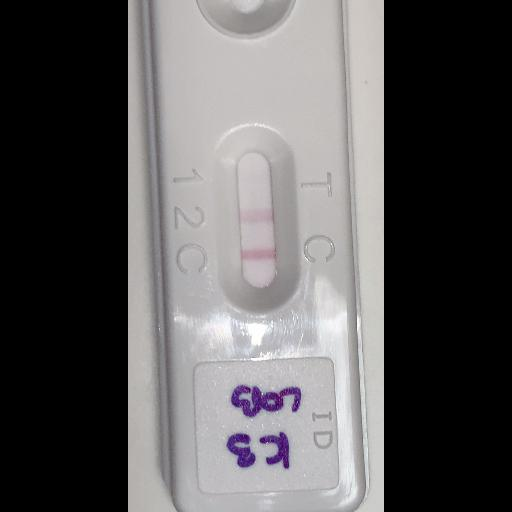Pos: (147, 0, 364, 511)
